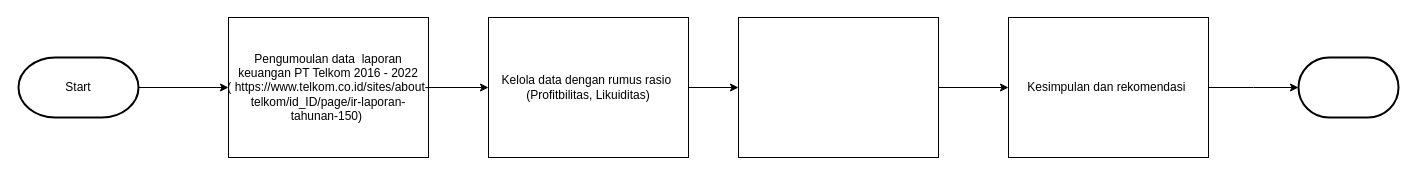
The diagram is 1416 pixels wide and 175 high, and some of its shapes have lost their labels. Each missing label, with the centre of its shape:
End: [1348,87]
Penyusunan laporan penelitian: [838,87]
